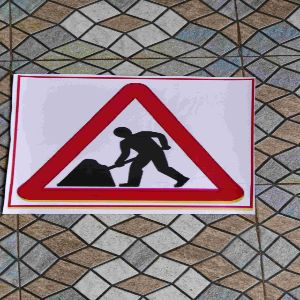men at work: (10, 73, 254, 215)
